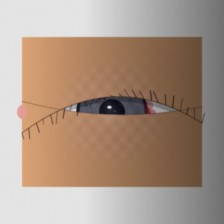hemorrhage_spot: (87, 85, 161, 144)
